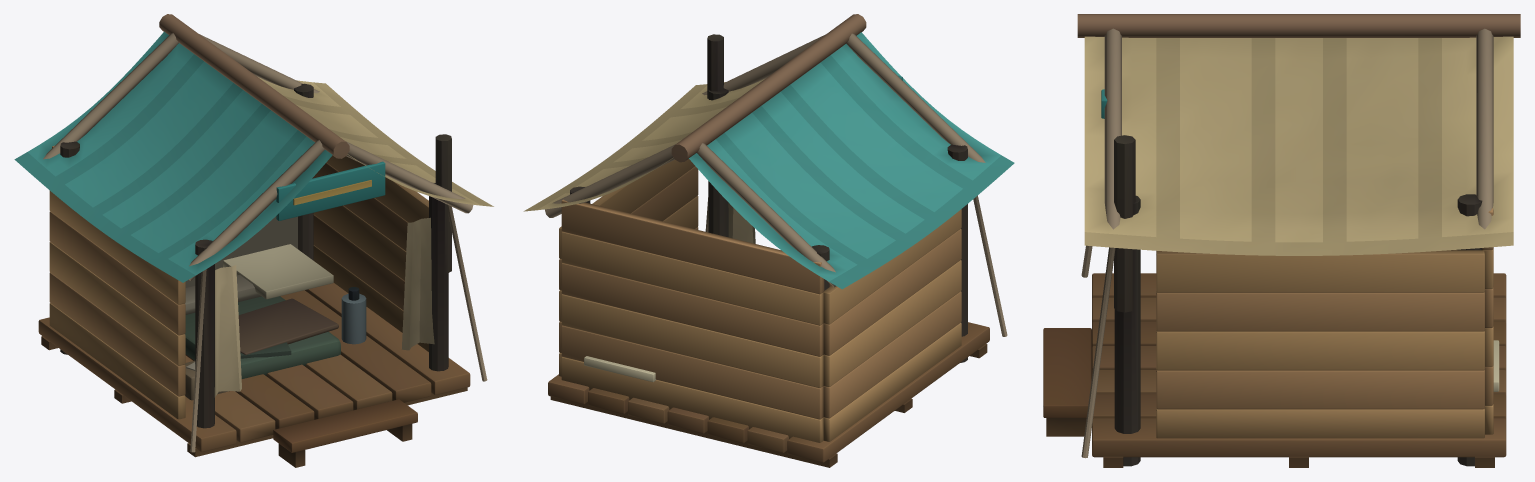
Rendered from shelter.glb.
3 renders of one model, left to right at view 1: azimuth 30°, elevation 25°; view 2: azimuth 150°, elevation 25°; view 3: azimuth 270°, elevation 25°, orthographic. The views are drawn at different scales.
Parts seen in each view (by area): view 1: shelter, roof; view 2: shelter, roof; view 3: roof, shelter.
Part boxes in pixels (x1,y1,x2,y2): shelter: (38, 83, 487, 467); roof: (14, 14, 493, 282); shelter: (548, 34, 1007, 467); roof: (523, 14, 1014, 289); roof: (1077, 14, 1520, 255); shelter: (1043, 89, 1506, 467).
Bounding box in the file's own units: 3.2 × 2.97 × 3.34.
